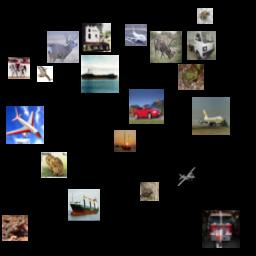airplane: (192, 97, 230, 135), (6, 106, 44, 144), (125, 24, 147, 46), (177, 167, 196, 186)
automobile: (129, 89, 164, 124)
deer: (150, 31, 182, 63), (47, 31, 79, 63)
frog: (178, 64, 204, 90), (41, 152, 67, 178), (2, 215, 28, 241), (140, 182, 159, 201), (37, 66, 53, 82), (197, 8, 213, 24)
ship: (81, 55, 119, 93), (68, 189, 100, 221), (114, 130, 136, 152)
truck: (202, 210, 240, 248), (82, 23, 111, 52), (187, 31, 216, 60)
